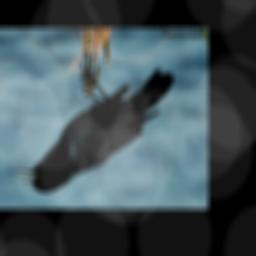Crow: (15, 63, 174, 193)
